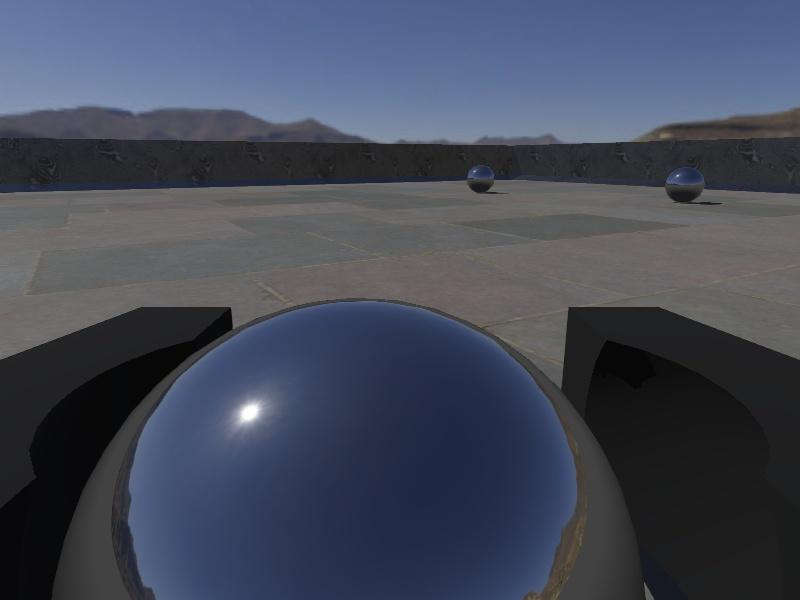steel ball: (664, 165, 705, 203), (466, 163, 495, 193)
